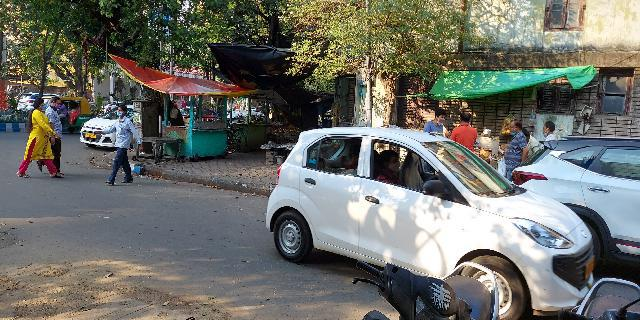Car: (245, 101, 598, 312)
